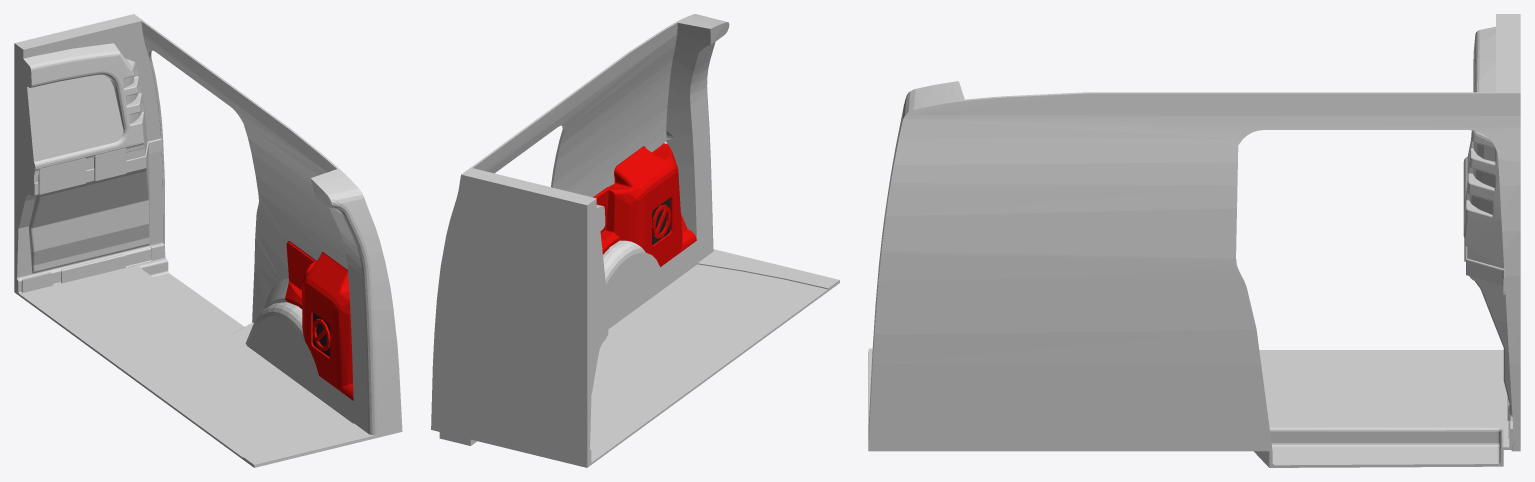
The model's file is Volkswagen_Caddy_VW32_2021-_R_D.glb.
3 renders of one model, left to right at view 1: azimuth 30°, elevation 25°; view 2: azimuth 150°, elevation 25°; view 3: azimuth 270°, elevation 25°, orthographic. The views are drawn at different scales.
Parts seen in each view (by area): view 1: VW32_R_D; view 2: VW32_R_D; view 3: VW32_R_D.
Boxes of the visible parts, bbox=[...] form: VW32_R_D: bbox=[14, 14, 402, 467]; VW32_R_D: bbox=[431, 14, 839, 467]; VW32_R_D: bbox=[868, 14, 1520, 467].
Bounding box in the file's own units: 779 × 1313 × 2182.
